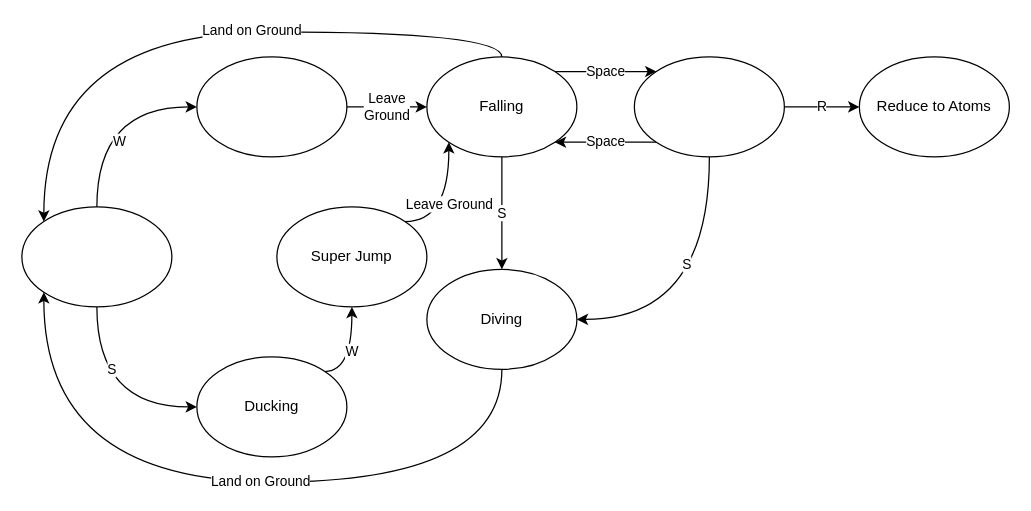
Image size: 1031x511. Some labels were removed from this diagram. Here are the shapes that lost their labels. From the top down, the centre of each, then its label:
At point 271,106: "Jumping".
At point 708,106: "Floating".
At point 96,256: "Standing".
